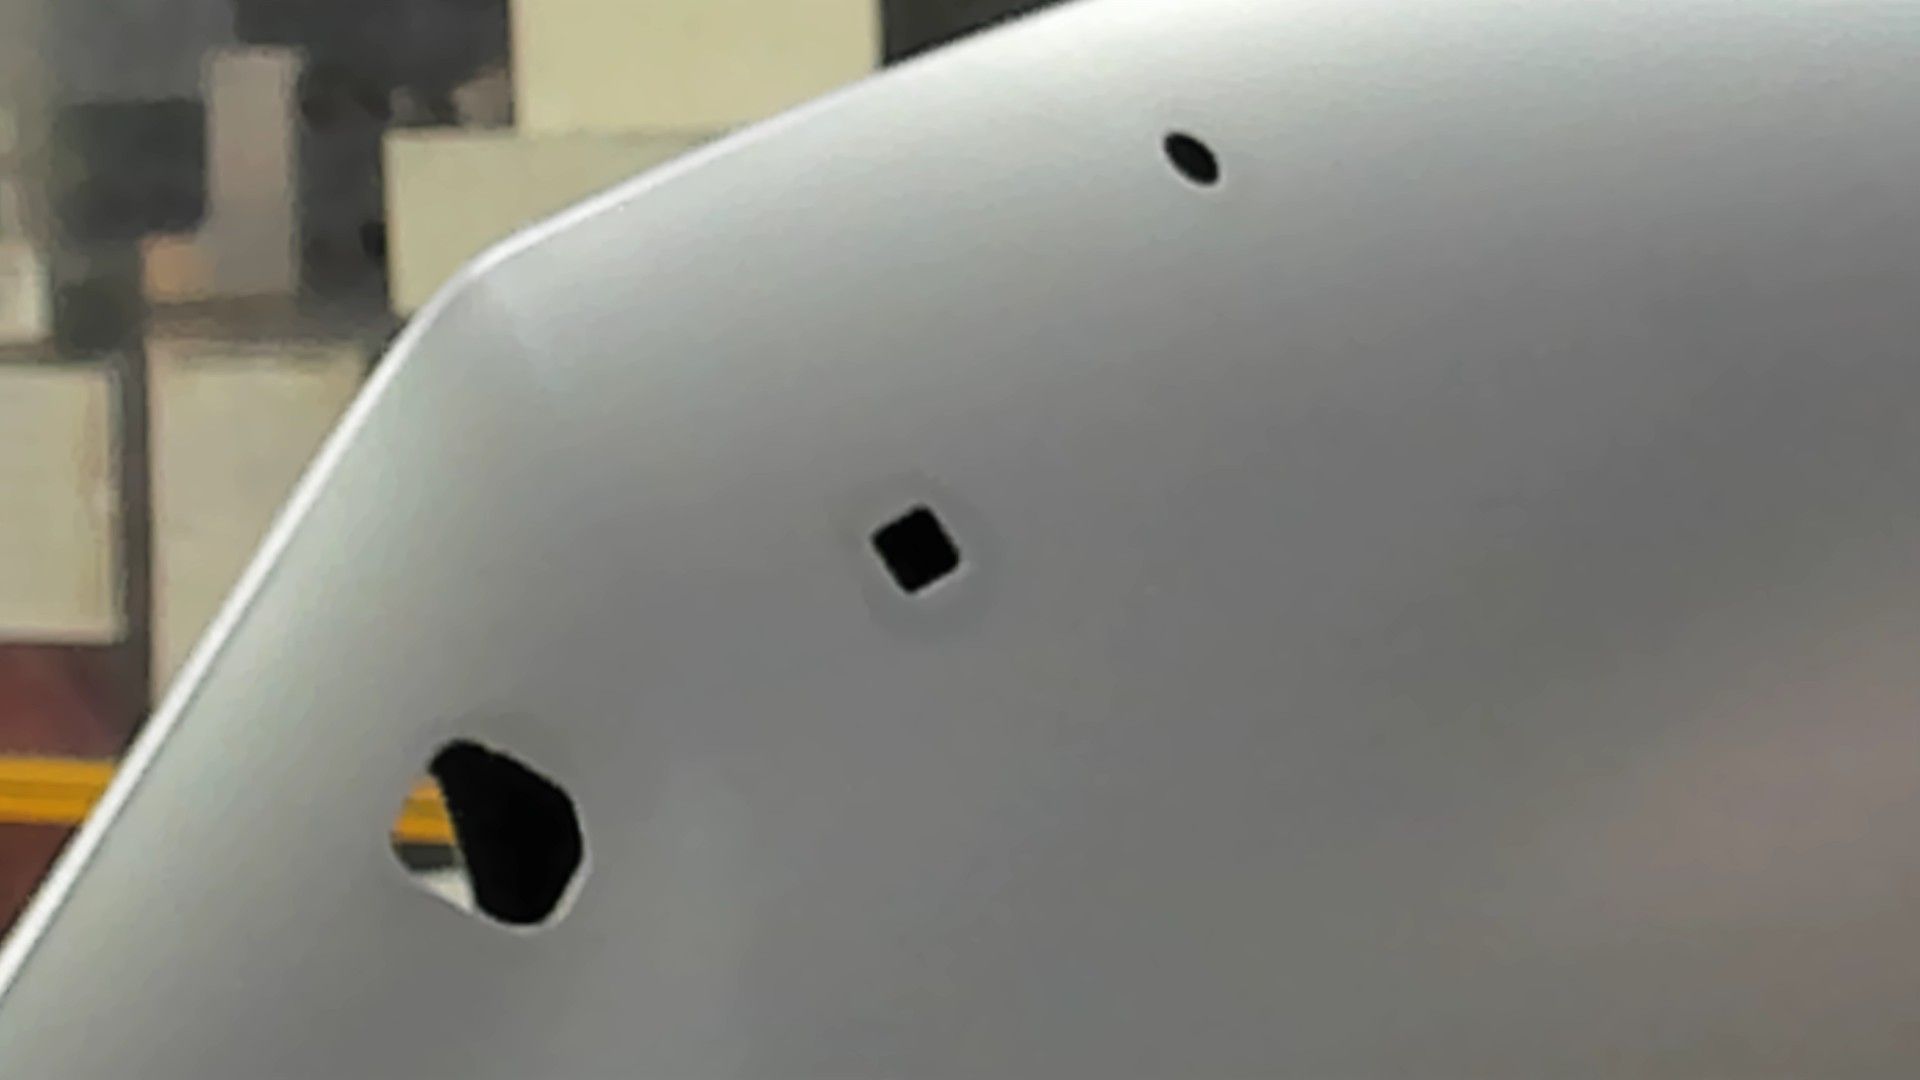chico: (1154, 123, 1226, 196)
grande: (380, 732, 593, 938)
mediano: (860, 497, 968, 605)
